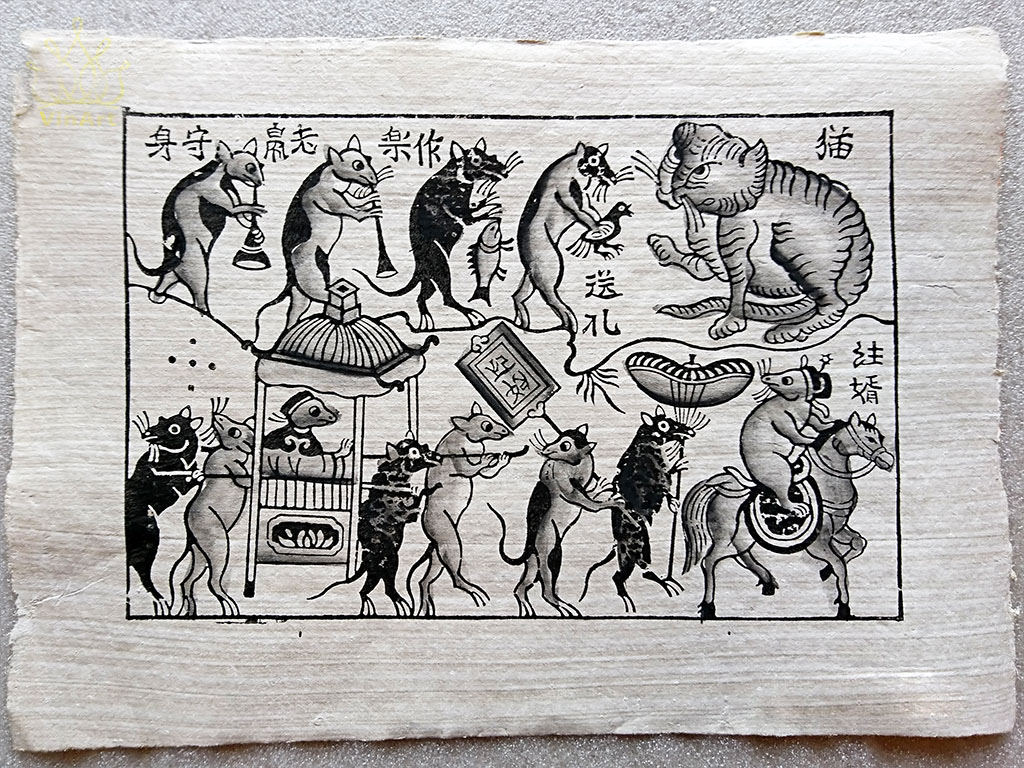chuot_chu_re: (684, 363, 894, 618)
chuot_co_dau: (246, 279, 436, 596)
chuot_khenh_kieu: (308, 403, 510, 616), (126, 407, 253, 614)
chuot_mang_le_vat: (396, 137, 634, 332)
chuot_nguoi_hau: (457, 324, 752, 616)
chuot_nhac_cong: (126, 141, 269, 315), (267, 135, 395, 326)
ho_uy_nghi: (649, 123, 873, 343)
